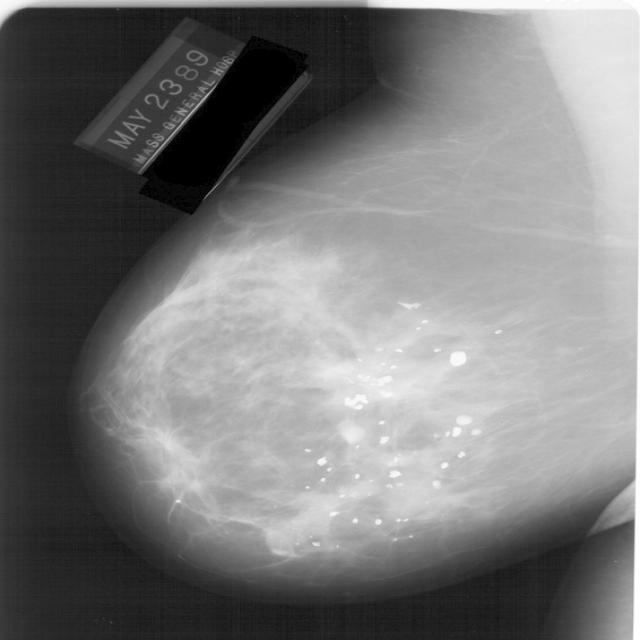tumour: (315, 354, 397, 404)
